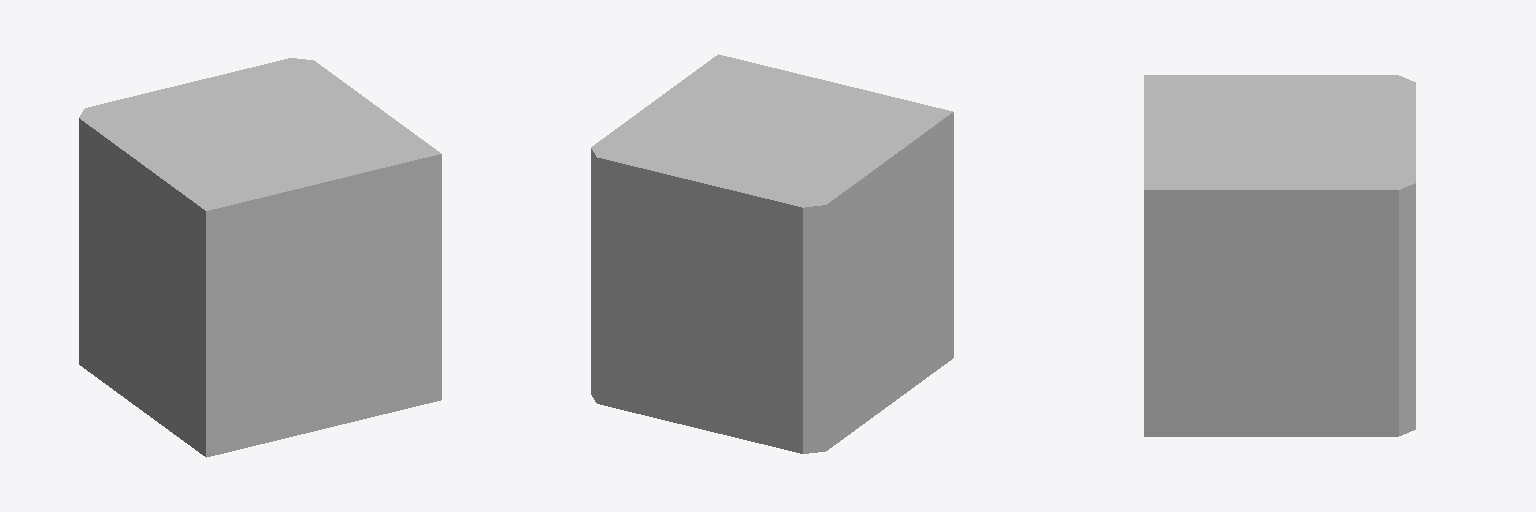
The model's file is homedecor_speaker_large.obj.
3 renders of one model, left to right at view 1: azimuth 30°, elevation 25°; view 2: azimuth 150°, elevation 25°; view 3: azimuth 270°, elevation 25°, orthographic.
Visible parts, largest first — view 1: Cube; view 2: Cube; view 3: Cube.
Part boxes in pixels (bbox=[...]): Cube: bbox=[79, 58, 441, 457]; Cube: bbox=[591, 54, 953, 453]; Cube: bbox=[1144, 75, 1415, 436].
Size of the model in its own units: 1 by 1 by 1.